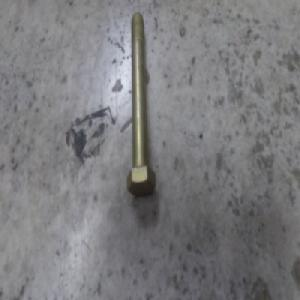Bolt: (126, 10, 156, 197)
